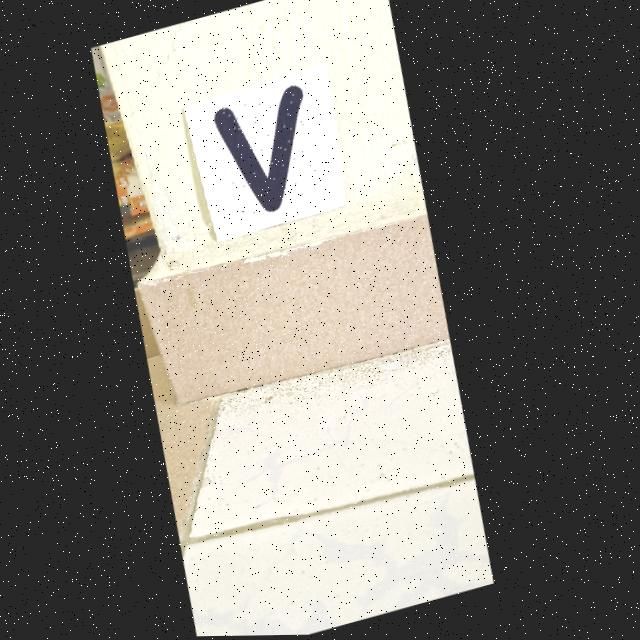V: (216, 87, 304, 212)
